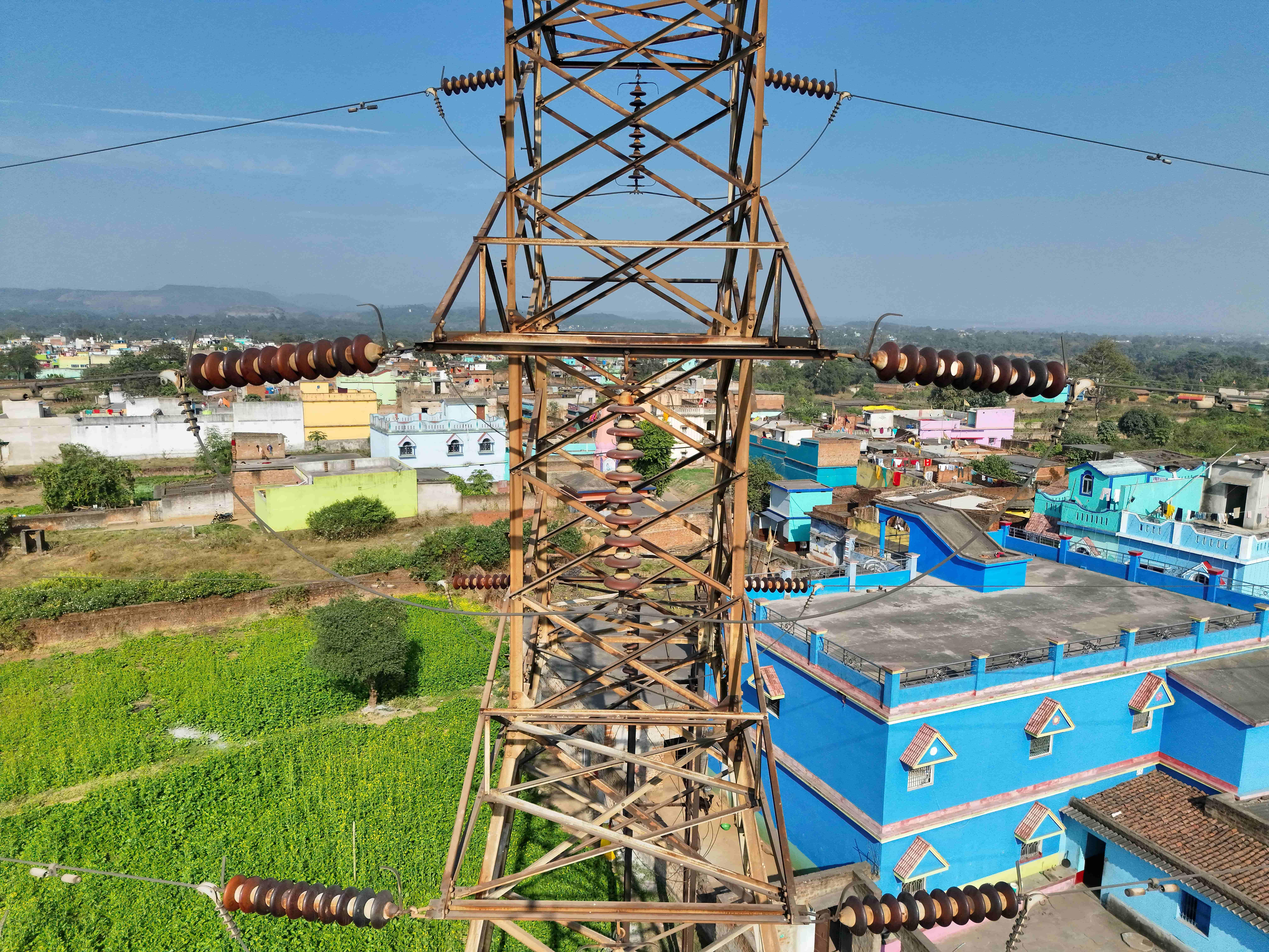broken_insulator: (940, 346, 961, 389)
